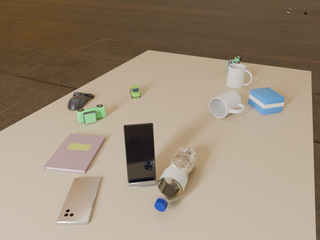book: (44, 134, 105, 174)
bottle: (155, 146, 197, 212)
box: (248, 87, 285, 115)
cup: (209, 90, 245, 118), (226, 64, 253, 88)
mouse: (68, 92, 94, 110)
phone: (57, 178, 100, 224), (124, 123, 156, 183)
toy_car: (77, 105, 106, 124), (227, 57, 242, 71), (130, 85, 140, 98)
